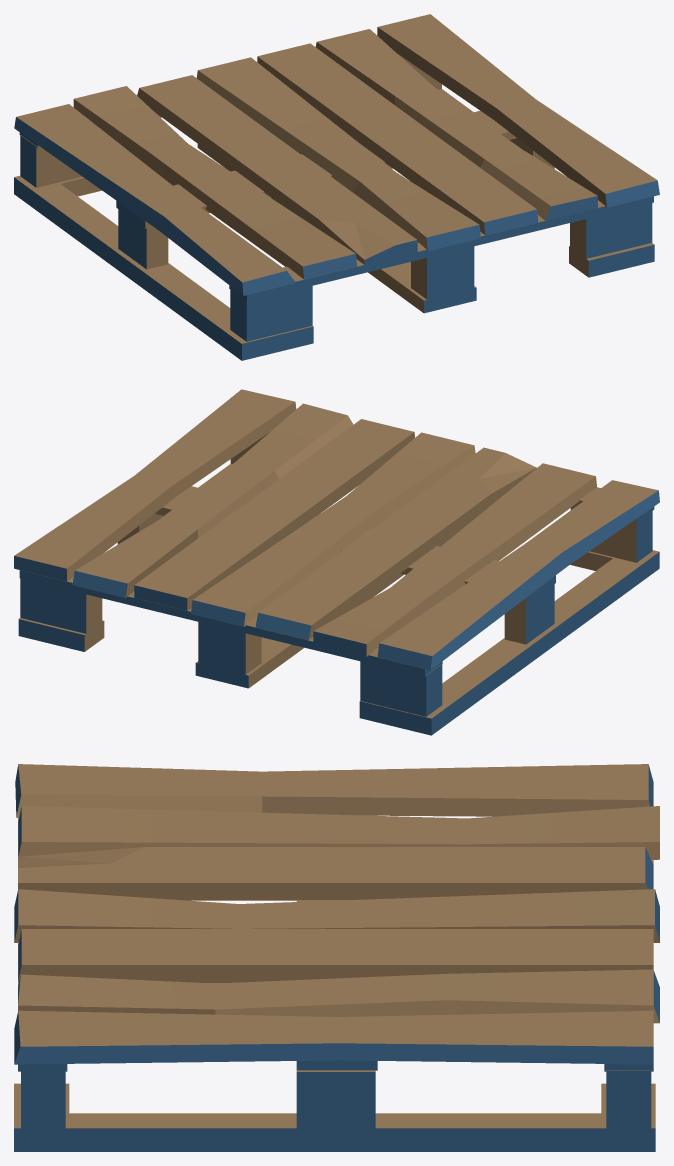
File: SM_Prop_Warehouse_Pallet_01.obj
3 views of the same model, one above another, from view 1: azimuth 30°, elevation 25°; view 2: azimuth 150°, elevation 25°; view 3: azimuth 270°, elevation 25° (orthographic). The views are drawn at different scales.
Visible parts, largest first — view 1: SM_Prop_Warehouse_Pallet_01_0; view 2: SM_Prop_Warehouse_Pallet_01_0; view 3: SM_Prop_Warehouse_Pallet_01_0.
Boxes of the visible parts, x1,y1,x2,y2 form: SM_Prop_Warehouse_Pallet_01_0: (14, 14, 659, 360); SM_Prop_Warehouse_Pallet_01_0: (14, 389, 659, 735); SM_Prop_Warehouse_Pallet_01_0: (14, 764, 659, 1151).
Size of the model in its own units: 1.44 by 0.2586 by 1.39.
1 material, 1 textured.
